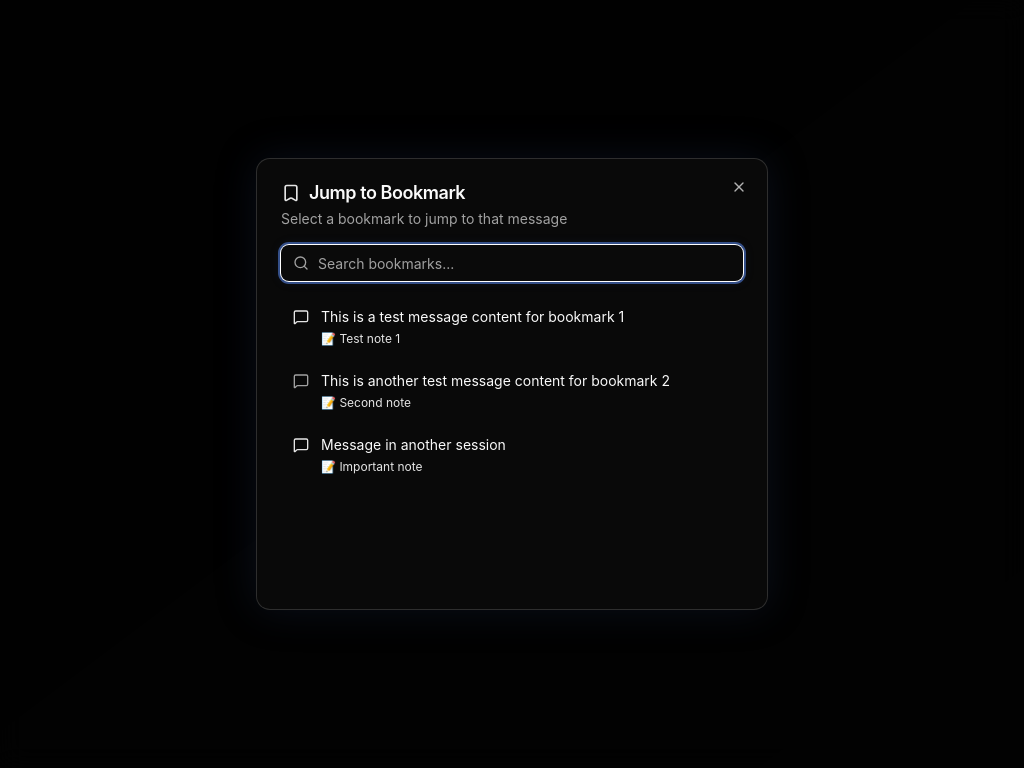
Scenario: BookmarkJumpDialog › searches in note content
The image size is (1024, 768).
Expected: the text "This is a test message content for bookmark 1" is shown, [321, 308, 624, 325]
# Search for "important" (in note)
Type "important" into the field with placeholder "Search bookmarks...".
click(512, 263); type("important")  # box [281, 245, 743, 281]
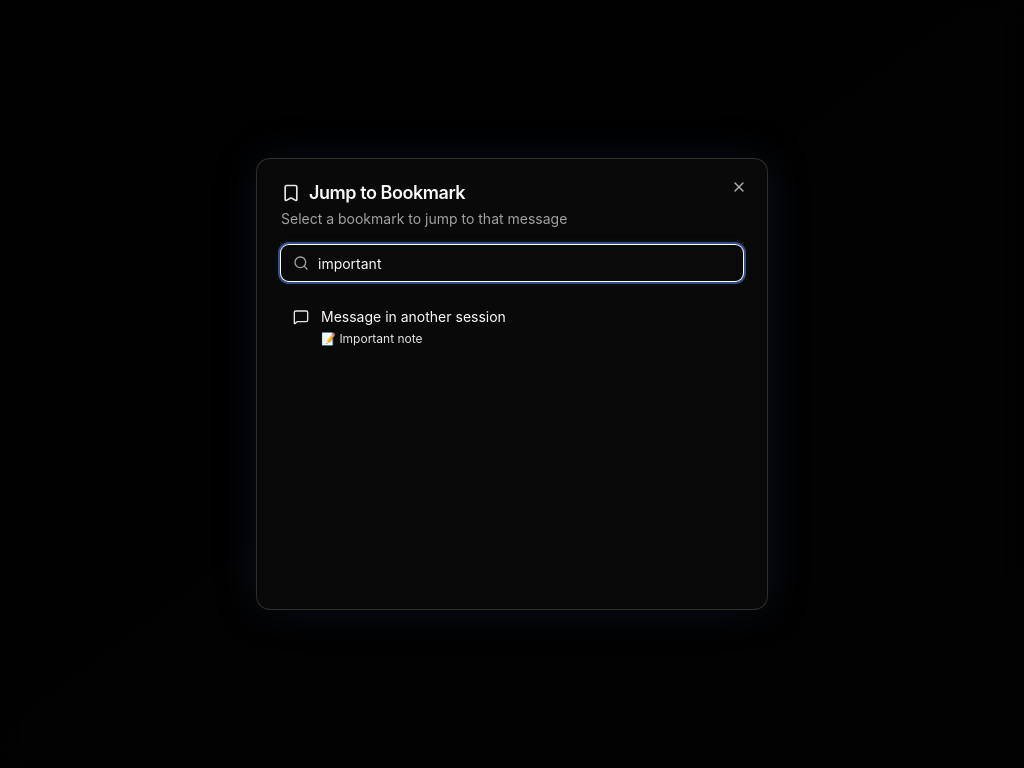
Expected: the text "📝 Important note" is shown, [321, 331, 423, 346]
Result: the option "Test note 1" is gone
